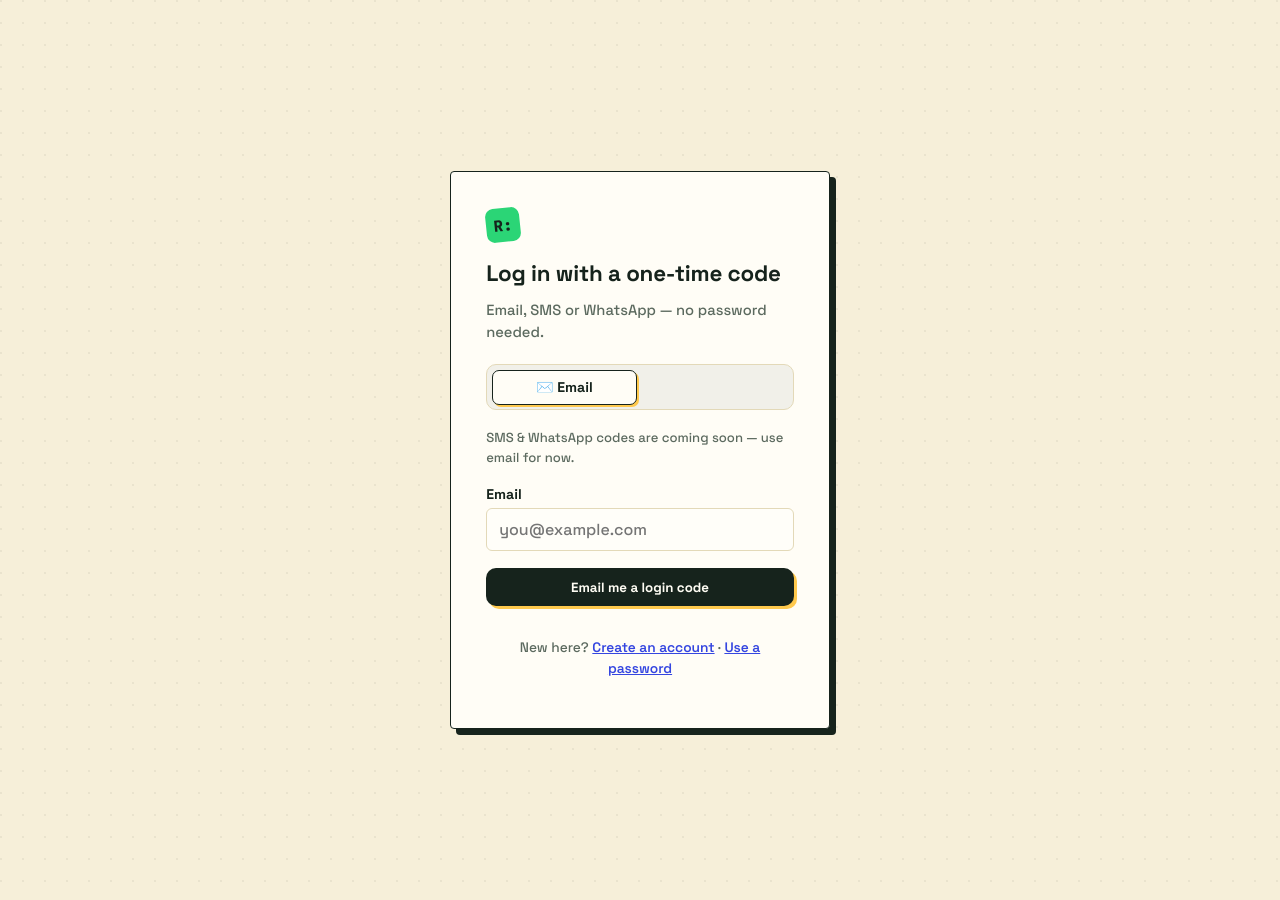
Test: Login OTP flow › opens the OTP holder immediately on Enter and shows the delivering state while the request is in flight
Expected: the heading "Log in with a one-time code" is shown, [486, 259, 794, 288]
In the field labelled "Email": (640, 530) [486, 508, 794, 551], type "sipho@example.com"
Then press Enter
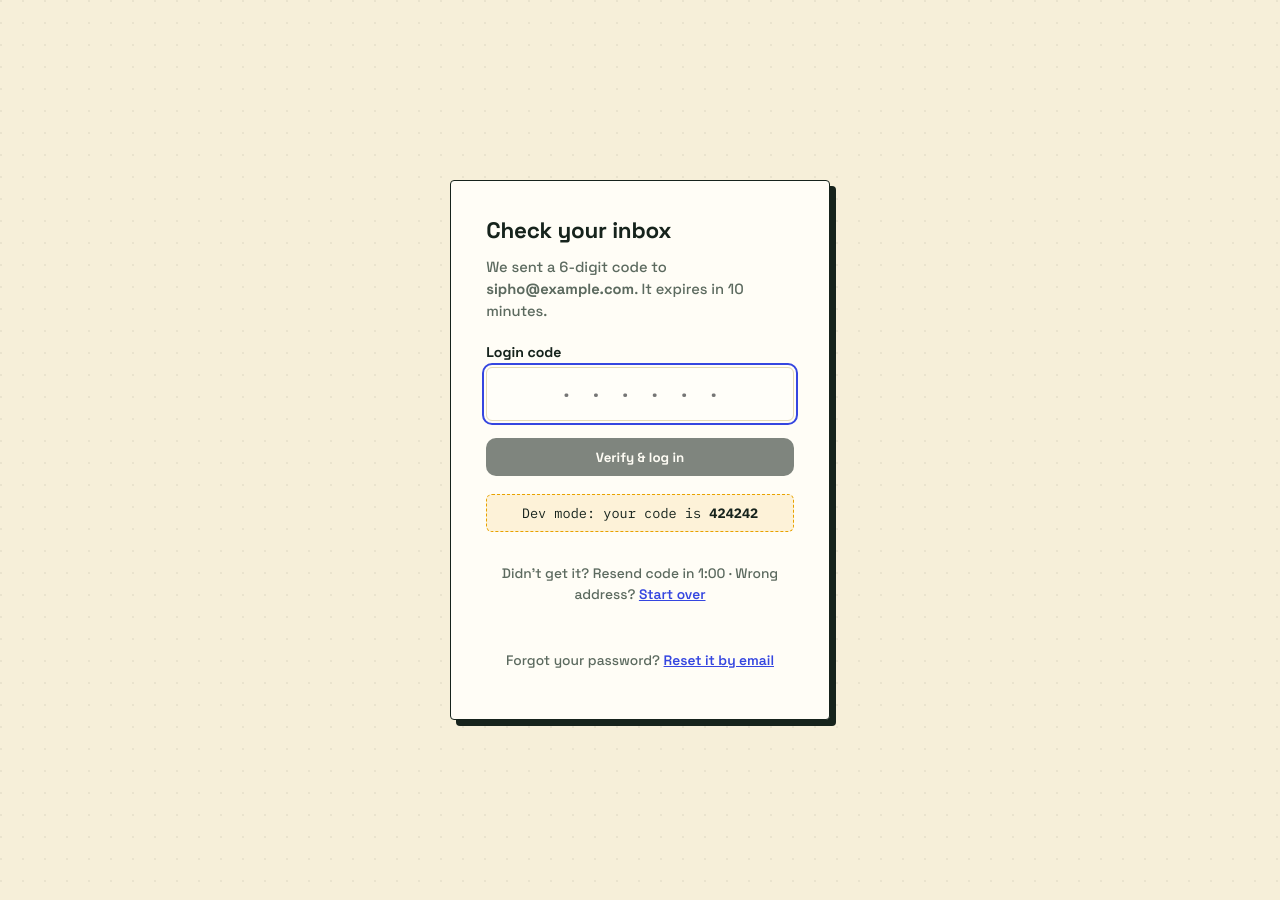
Result: the heading "Check your inbox" is shown at [486, 216, 671, 245]
Result: the field labelled "Login code" is shown at [486, 367, 794, 421]
Result: the text "Resend code in 1:00" is shown at [593, 564, 726, 582]
